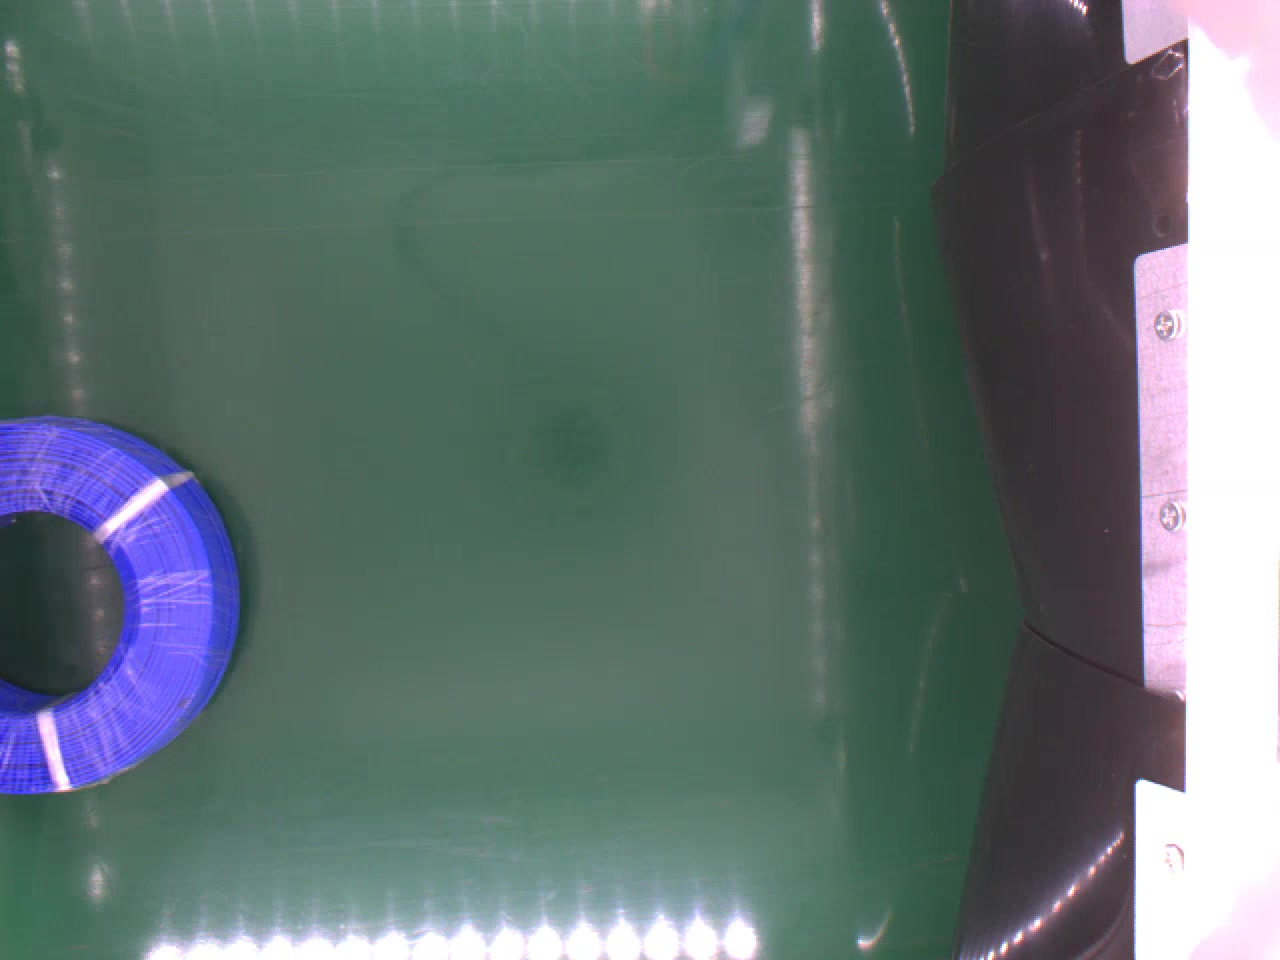blue: (0, 411, 243, 801)
